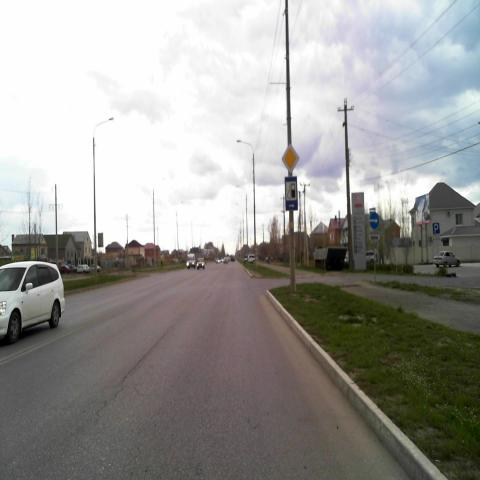4_1_2_1: (370, 212, 379, 229)
